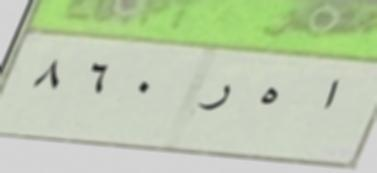0: (131, 75, 160, 108)
6: (85, 60, 115, 96)
8: (24, 50, 78, 96)
alif: (314, 70, 350, 116)
haa: (251, 80, 282, 116)
raa: (195, 74, 236, 123)
